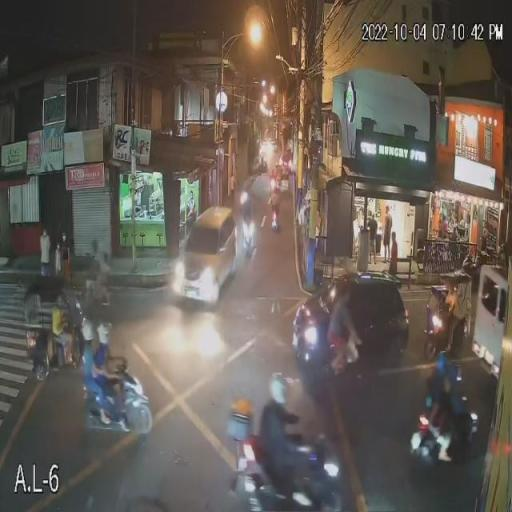helmet: (271, 370, 290, 404), (433, 348, 450, 378), (77, 321, 98, 345), (97, 322, 117, 344), (447, 366, 465, 390), (272, 183, 280, 196)
motorcycle: (226, 429, 343, 512), (83, 374, 157, 436), (414, 401, 477, 471), (238, 219, 258, 254), (266, 204, 280, 233)
rider: (260, 367, 298, 464), (421, 350, 451, 429), (77, 320, 102, 391), (97, 318, 114, 382), (444, 362, 463, 418), (242, 197, 258, 228), (267, 182, 285, 209)
